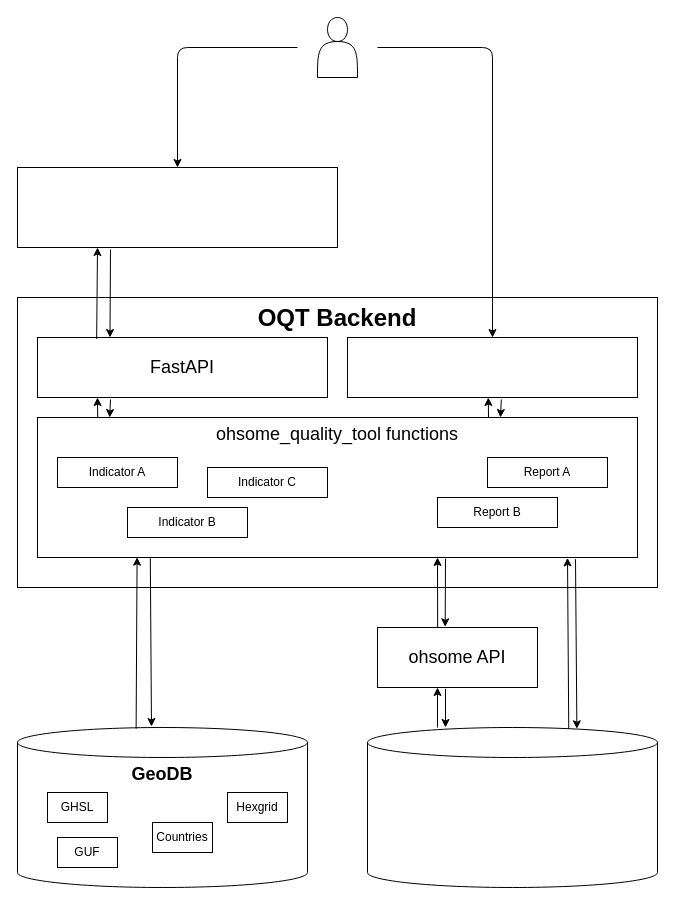
This 675x905 diagram has some shape labels left out. The centre of each missing label's shape, as x and y in pixels:
CLI: the point at 492,367
OQT Client: the point at 177,207
OSHDB: the point at 512,807
